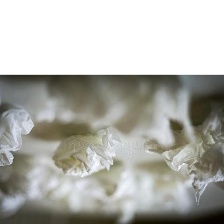tissue: (136, 103, 224, 210), (47, 121, 126, 183), (0, 102, 38, 170)
